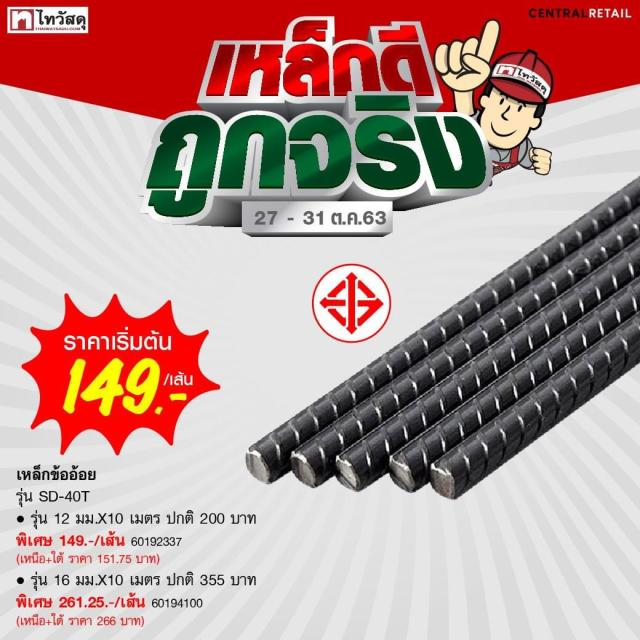Rebar: (229, 446, 275, 488), (292, 452, 325, 498), (425, 460, 457, 506), (335, 452, 363, 499), (383, 455, 414, 497)
